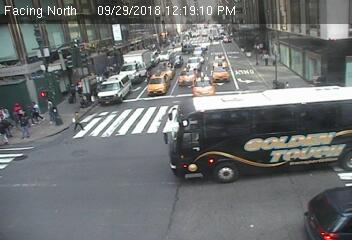car: (168, 88, 351, 180), (301, 185, 351, 240), (117, 50, 152, 83), (96, 73, 132, 104), (147, 71, 170, 95), (210, 61, 231, 82), (192, 77, 216, 95), (178, 68, 200, 86), (191, 45, 207, 56), (181, 42, 197, 53), (169, 55, 183, 66), (157, 48, 171, 59), (161, 64, 174, 75), (213, 50, 226, 61), (221, 35, 234, 43)
